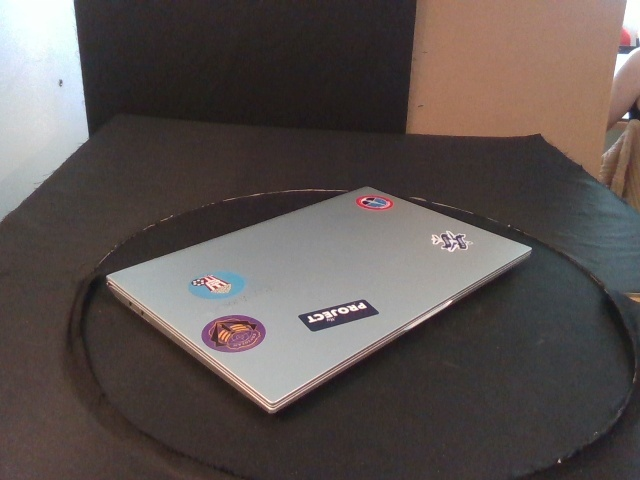laptop: (105, 185, 533, 414)
